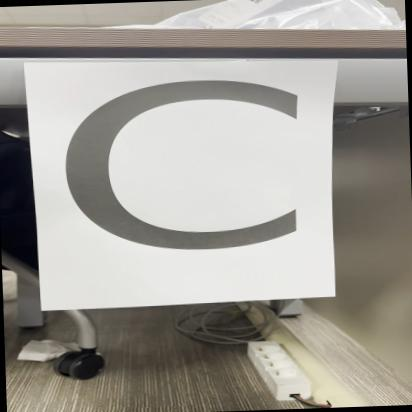seat: (22, 53, 348, 307)
